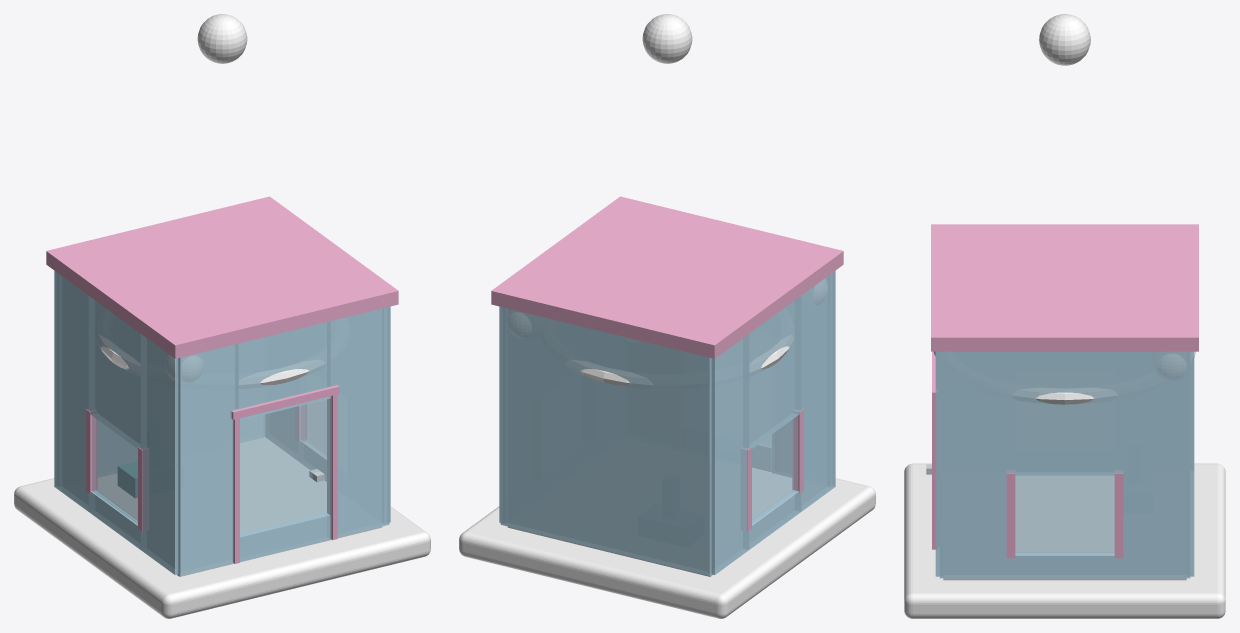
Rendered from metro_block.glb.
The picture shows the model from 3 angles, left to right: view 1: azimuth 30°, elevation 25°; view 2: azimuth 150°, elevation 25°; view 3: azimuth 270°, elevation 25°; orthographic projection. The views are drawn at different scales.
Visible parts, largest first — view 1: Shell_Real_Roof, Original_solid, Shell_Front_Side_-1, Shell_Front_Side_1, Door_Main_Glass, Shell_Side_-1_End_1, Shell_Side_-1_End_-1, Walkable_Interior_Floor, Shell_Front_Header, Shell_Side_-1_Header, Window_Right_Glass, Door_Main_LowerBand (+14 smaller); view 2: Shell_Back, Shell_Real_Roof, Original_solid, Shell_Side_-1_End_-1, Shell_Side_-1_End_1, Shell_Side_-1_Header, Window_Right_Glass, Original_emissive, Original_accent_2, Walkable_Interior_Floor, Shell_Side_-1_Sill, Shell_Front_Side_-1 (+2 smaller); view 3: Shell_Real_Roof, Original_solid, Shell_Side_1_End_-1, Shell_Side_1_End_1, Shell_Side_1_Header, Walkable_Interior_Floor, Window_Left_Glass, Shell_Side_1_Sill, Original_emissive, Original_accent_2, Shell_Front_Side_1, Shell_Back (+4 smaller).
Part boxes in pixels (bbox=[...]): Shell_Real_Roof: bbox=[46, 196, 398, 358]; Original_solid: bbox=[14, 478, 430, 618]; Shell_Front_Side_-1: bbox=[177, 343, 238, 575]; Shell_Front_Side_1: bbox=[327, 307, 389, 538]; Door_Main_Glass: bbox=[240, 398, 329, 536]; Shell_Side_-1_End_1: bbox=[140, 334, 180, 574]; Shell_Side_-1_End_-1: bbox=[54, 271, 88, 511]; Walkable_Interior_Floor: bbox=[98, 437, 382, 576]; Shell_Front_Header: bbox=[238, 321, 330, 420]; Shell_Side_-1_Header: bbox=[88, 296, 140, 448]; Window_Right_Glass: bbox=[92, 416, 137, 524]; Door_Main_LowerBand: bbox=[240, 513, 330, 561]; Shell_Back: bbox=[500, 307, 712, 575]; Shell_Real_Roof: bbox=[491, 196, 843, 358]; Original_solid: bbox=[459, 468, 875, 618]; Shell_Side_-1_End_-1: bbox=[709, 334, 749, 574]; Shell_Side_-1_End_1: bbox=[801, 271, 835, 511]; Shell_Side_-1_Header: bbox=[749, 296, 801, 448]; Window_Right_Glass: bbox=[752, 416, 797, 524]; Original_emissive: bbox=[642, 14, 692, 63]; Original_accent_2: bbox=[565, 335, 793, 388]; Walkable_Interior_Floor: bbox=[507, 468, 791, 576]; Shell_Side_-1_Sill: bbox=[749, 490, 801, 549]; Shell_Front_Side_-1: bbox=[772, 420, 830, 486]; Shell_Real_Roof: bbox=[931, 224, 1198, 351]; Original_solid: bbox=[904, 463, 1225, 618]; Shell_Side_1_End_-1: bbox=[1119, 351, 1190, 578]; Shell_Side_1_End_1: bbox=[939, 351, 1010, 578]; Shell_Side_1_Header: bbox=[1011, 351, 1118, 475]; Walkable_Interior_Floor: bbox=[943, 476, 1186, 580]; Window_Left_Glass: bbox=[1015, 475, 1114, 554]; Shell_Side_1_Sill: bbox=[1011, 552, 1118, 578]; Original_emissive: bbox=[1039, 14, 1090, 65]; Original_accent_2: bbox=[934, 351, 1195, 404]; Shell_Front_Side_1: bbox=[935, 351, 939, 576]; Shell_Back: bbox=[1190, 351, 1194, 576].
Size of the model in its own units: 1.86 by 3.43 by 1.86.
